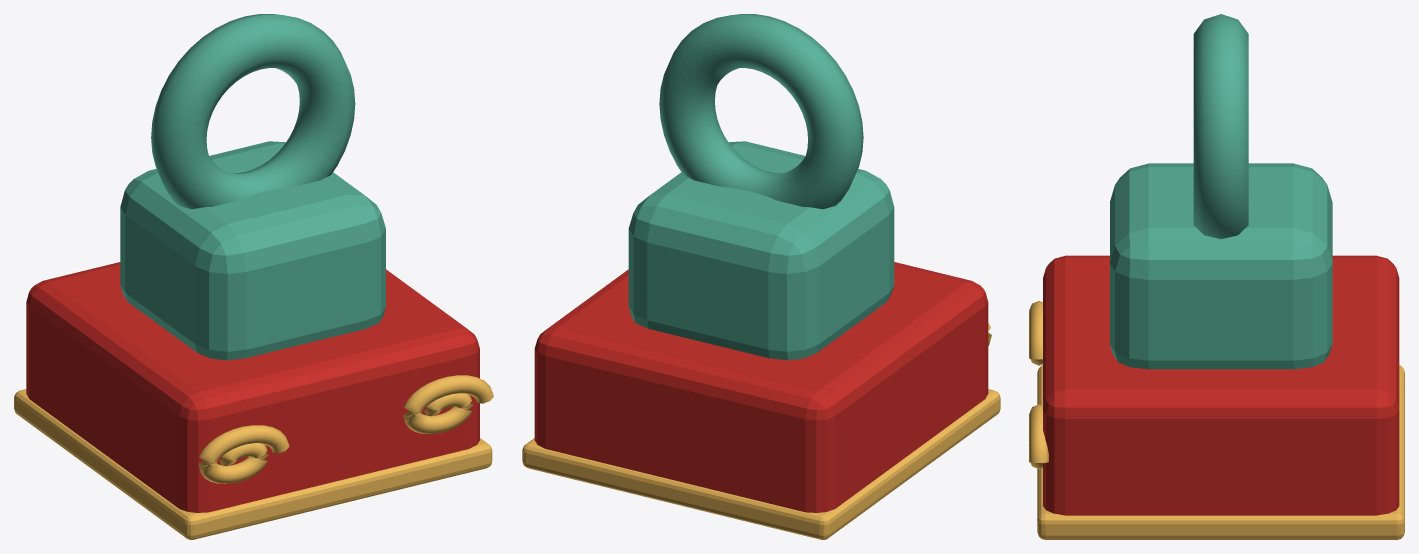
Rendered from prop-seal.glb.
3 views of the same model, side by side, from view 1: azimuth 30°, elevation 25°; view 2: azimuth 150°, elevation 25°; view 3: azimuth 270°, elevation 25° (orthographic). The views are drawn at different scales.
Visible parts, largest first — view 1: prop-seal; view 2: prop-seal; view 3: prop-seal.
Boxes of the visible parts, x1,y1,x2,y2 form: prop-seal: [14, 14, 493, 539]; prop-seal: [522, 14, 1000, 539]; prop-seal: [1029, 14, 1404, 539].
Bounding box in the file's own units: 0.66 × 0.872 × 0.675.
